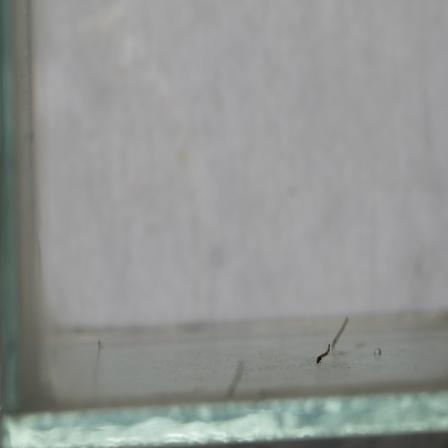Jentik-Nyamuk: (314, 342, 333, 368)
